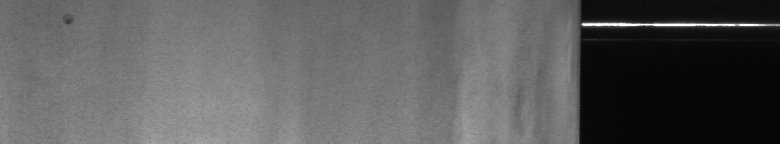fi: (60, 12, 74, 31)
